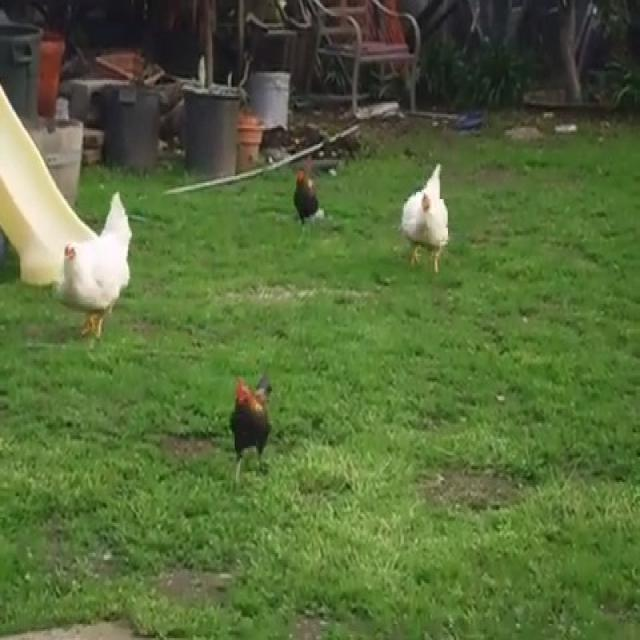running: (49, 185, 140, 347), (393, 150, 468, 276), (228, 364, 283, 498), (291, 156, 329, 249)
